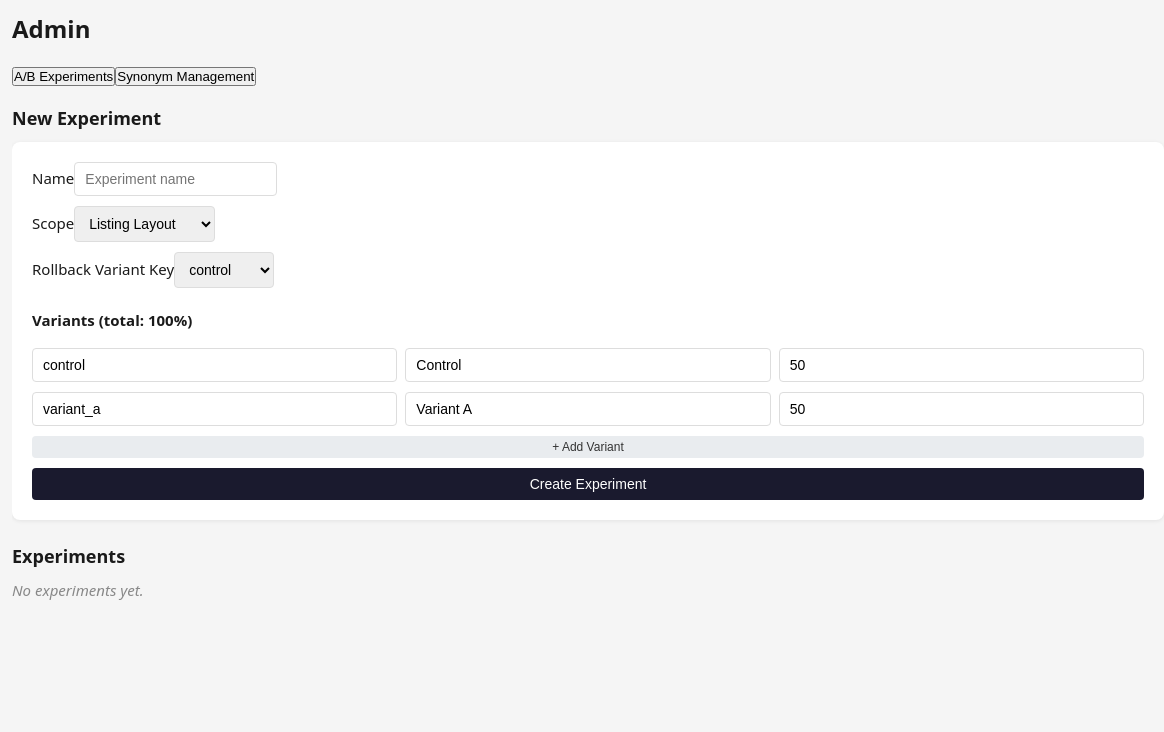
Test case: AdminPage — ExperimentsPanel create › "+ Add Variant" button appends a new variant row
Expected: the heading "New Experiment" is shown, [12,106,161,130]
Click the button "+ Add Variant" at (588, 447), box [32,436,1144,458]
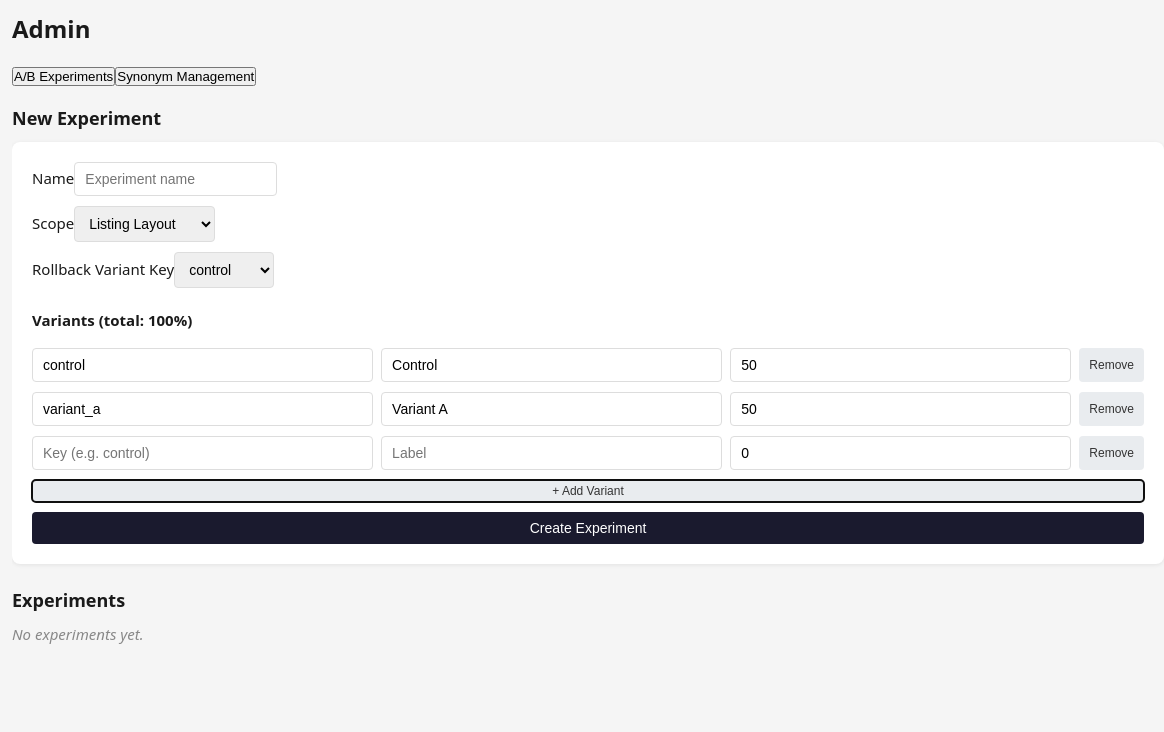
Result: the number of fields with placeholder "Key (e.g. control)" is 3 at [32,348,373,382]; [32,392,373,426]; [32,436,373,470]
